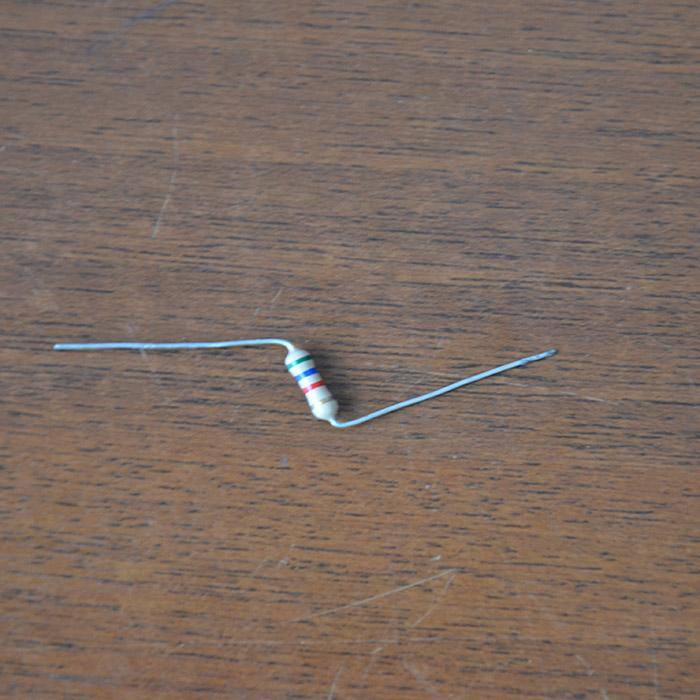resistor: (282, 344, 338, 422)
